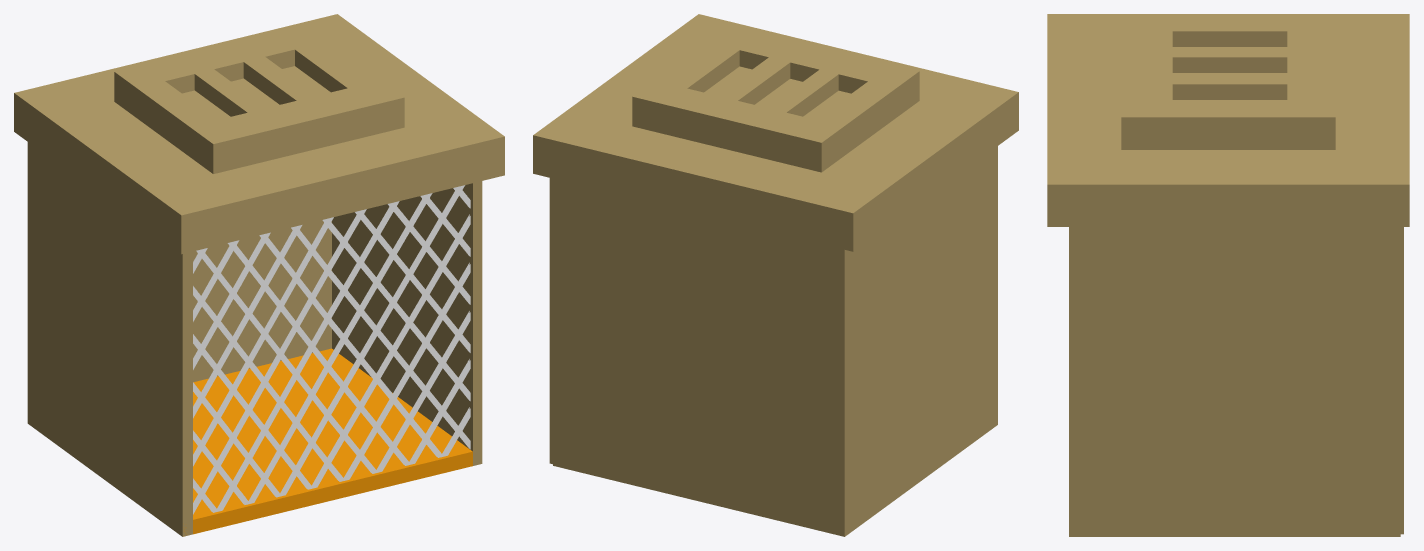
File: telerport_2.fbx
The picture shows the model from 3 angles, left to right: view 1: azimuth 30°, elevation 25°; view 2: azimuth 150°, elevation 25°; view 3: azimuth 270°, elevation 25°; orthographic projection. The views are drawn at different scales.
Visible parts, largest first — view 1: polySurface2, telerport_2, polySurface1; view 2: polySurface2; view 3: polySurface2.
Part boxes in pixels (box(x1,y1,x2,y2)): polySurface2: box(14, 14, 504, 536); telerport_2: box(193, 185, 470, 514); polySurface1: box(184, 348, 472, 536); polySurface2: box(533, 14, 1018, 536); polySurface2: box(1047, 14, 1409, 536).
Size of the model in its own units: 3.13 by 3.34 by 2.81.
Materials: 2 (2 with a texture image).
